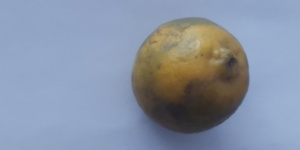BAD: (129, 16, 252, 137)
